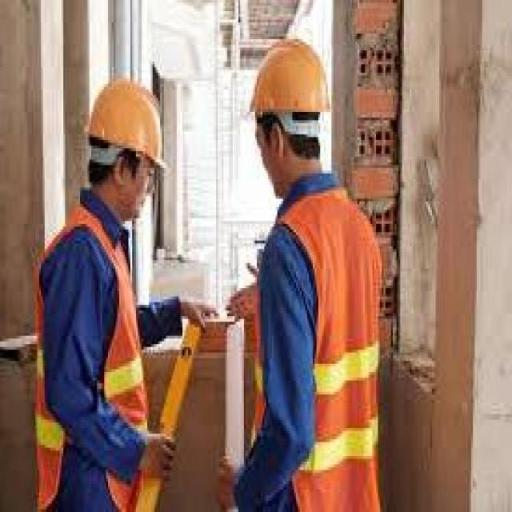helmet: (74, 67, 176, 182), (238, 33, 337, 137)
vest: (248, 182, 393, 506), (20, 206, 156, 476)
